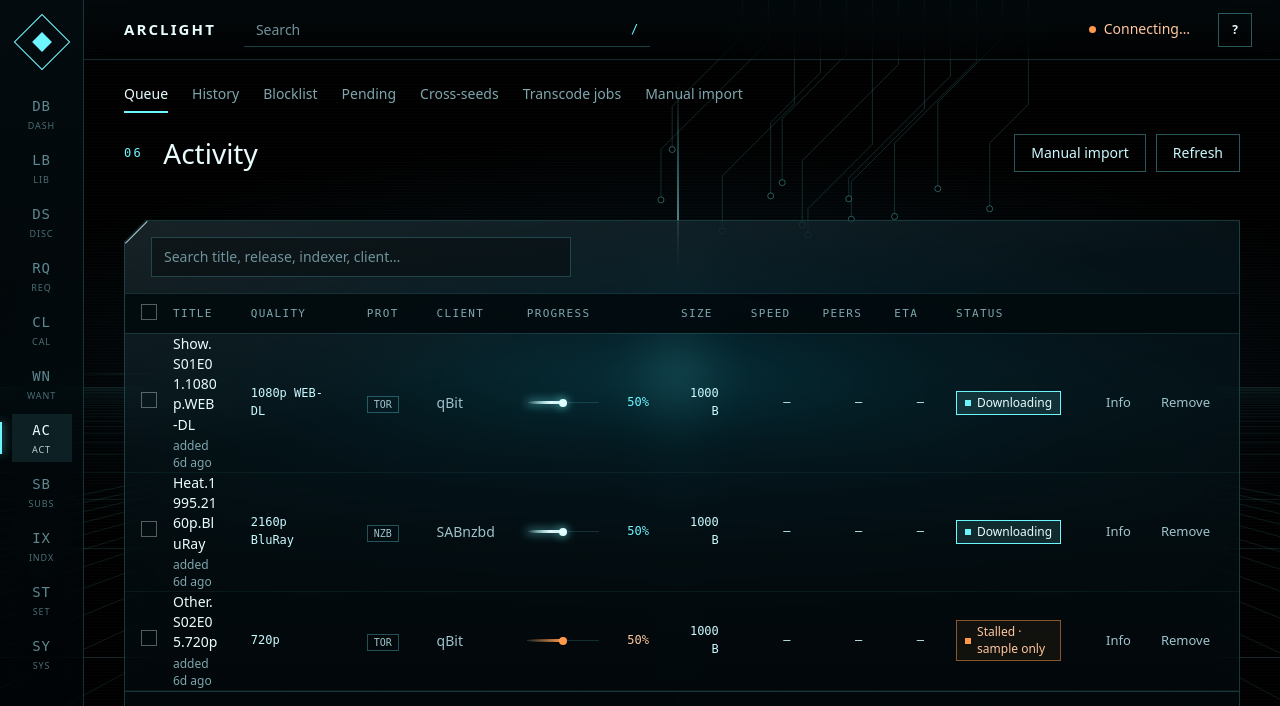
Test: queue search › filters by release name, client and status message, shows "N of M" and clears
Expected: the text "Heat.1995.2160p.BluRay" is shown, [173,473,219,554]
In the search field named "Search this list": (361, 257) [151,237,571,277], type "sabnzbd"
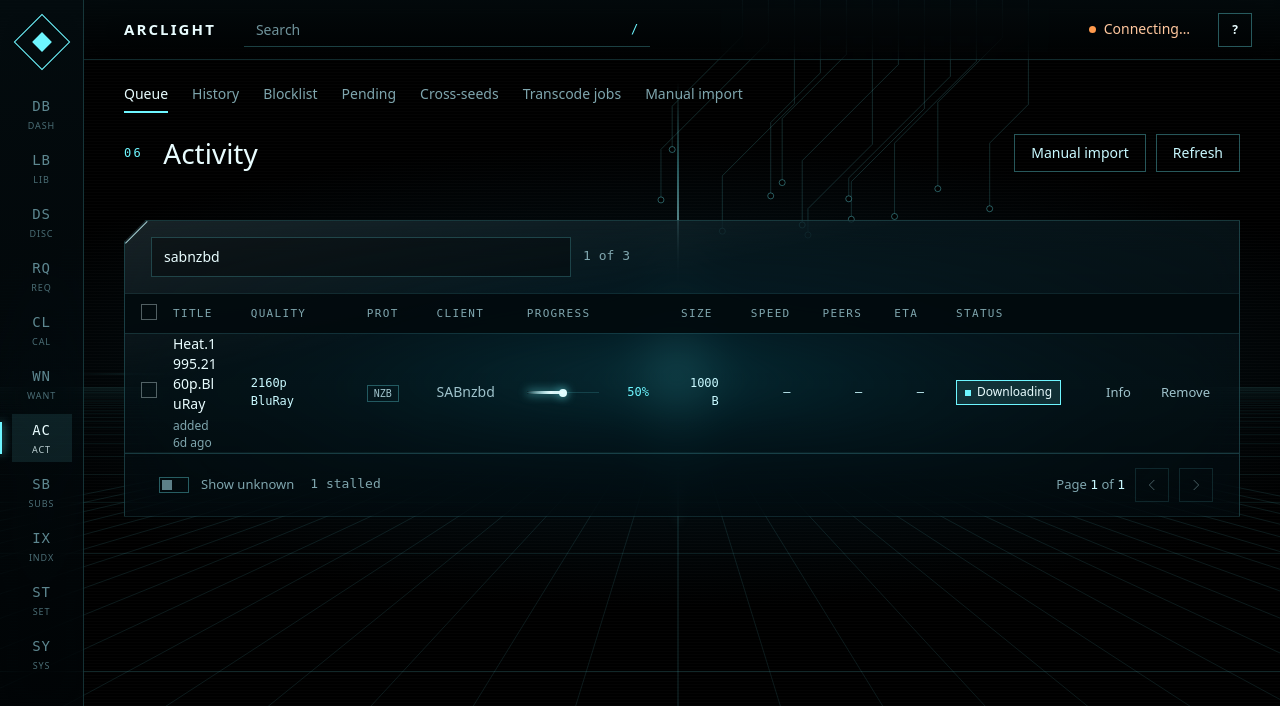
Expected: the text "Heat.1995.2160p.BluRay" is shown, [173,334,219,415]
Expected: the text "Show.S01E01.1080p.WEB-DL" is gone
Expected: the message with class "al-listsearch__count" reads "1 of 3", [583,248,630,263]
Replace the text in the search field named "Search this list" with "other sample": (361, 257) [151,237,571,277]
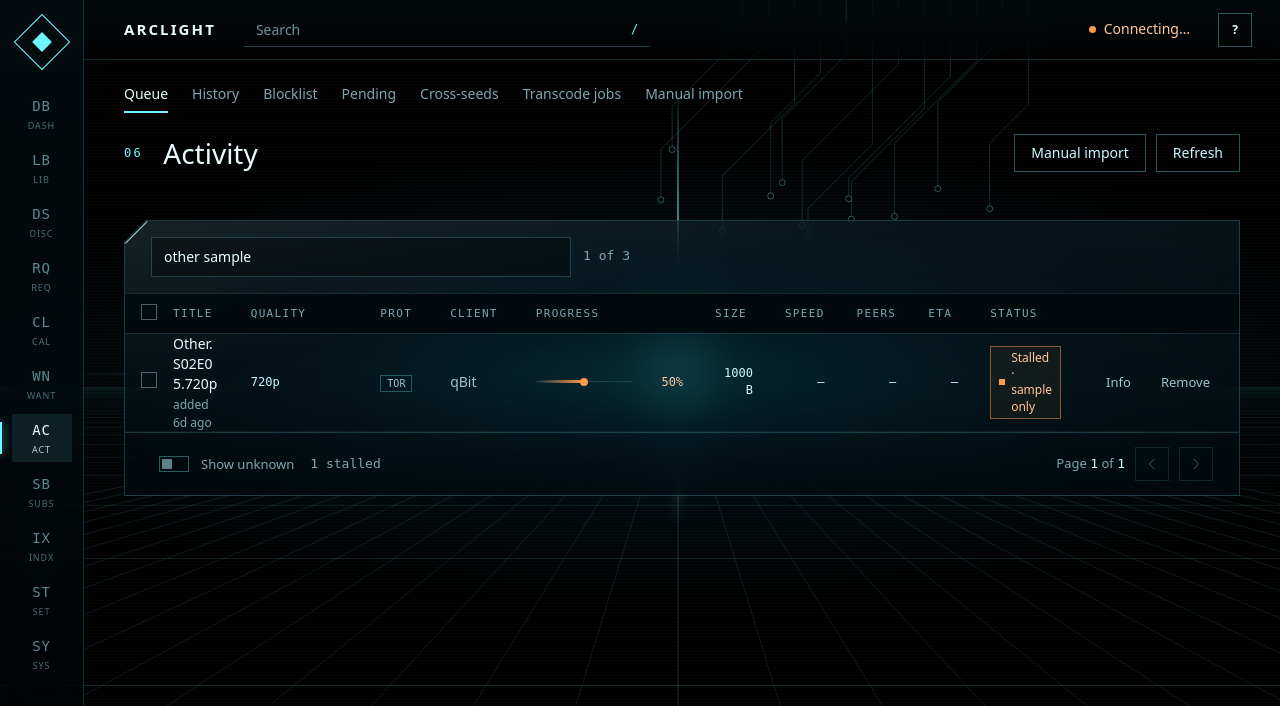
Expected: the text "Other.S02E05.720p" is shown, [173,334,219,394]
Expected: the text "Heat.1995.2160p.BluRay" is gone
// Select all picks the matching rows only.
Click the checkbox named "Select all rows": (149, 312) [141,304,157,320]
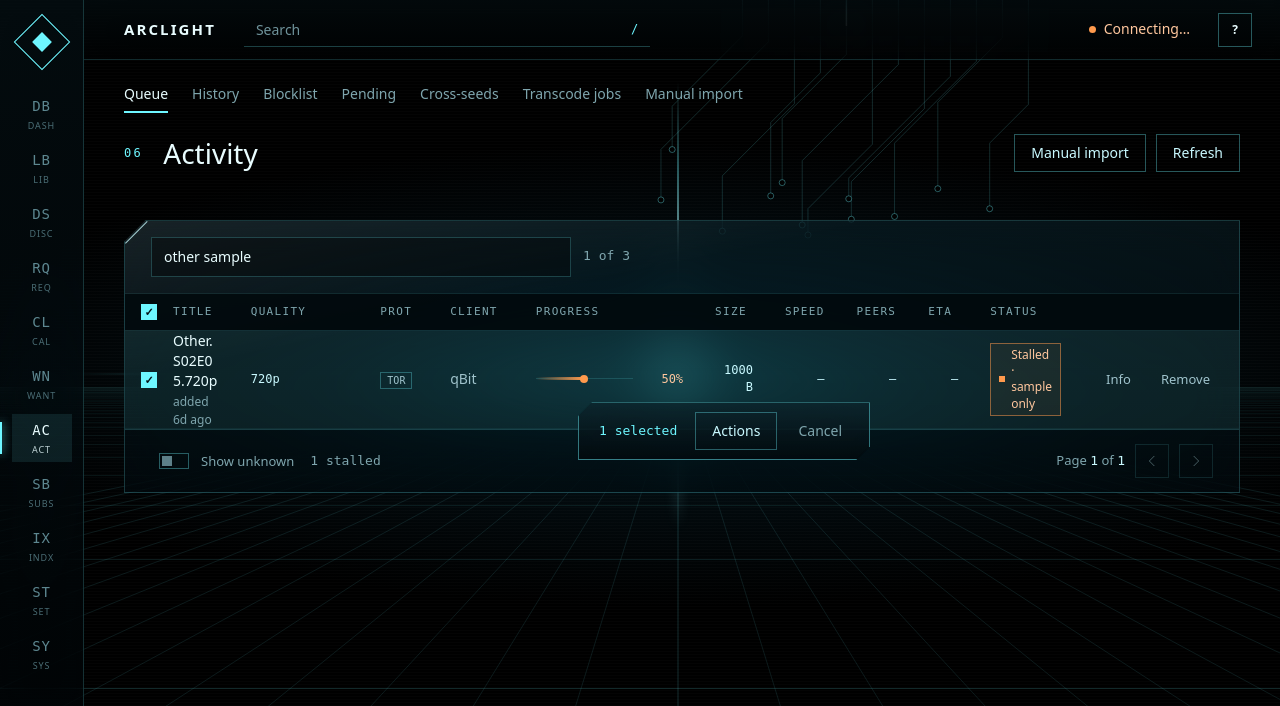
Expected: the text "1 selected" is shown, [599,422,677,441]
Replace the text in the search field named "Search this list" with "nothing-like-this": (361, 257) [151,237,571,277]
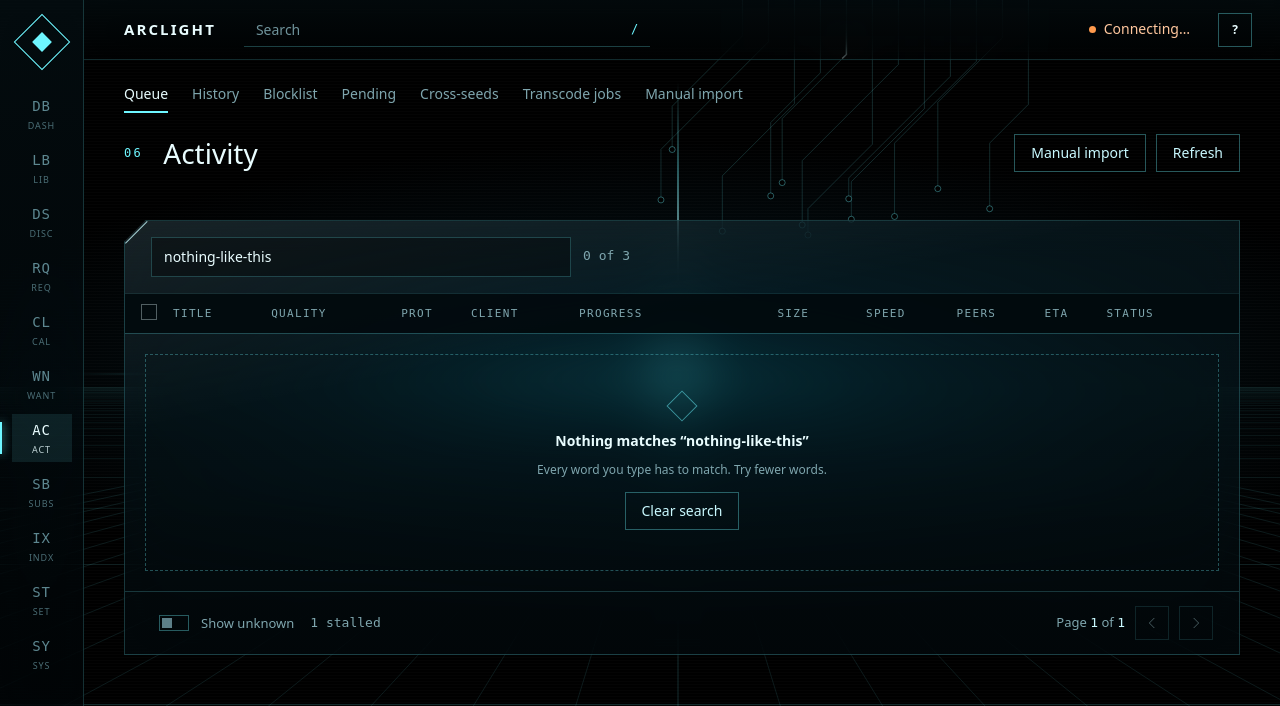
Click the button "Clear search": (682, 511) [624,492,740,530]
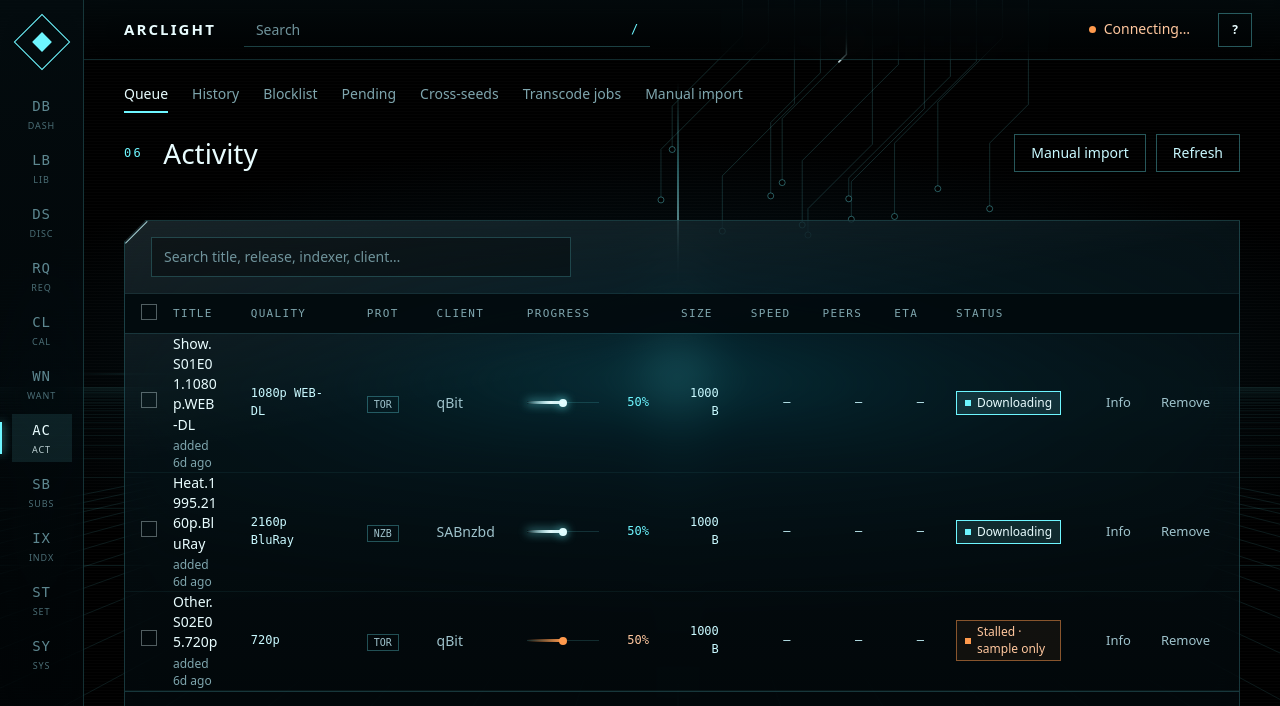
Expected: the text "Show.S01E01.1080p.WEB-DL" is shown, [173,334,219,435]
Expected: the text "Heat.1995.2160p.BluRay" is shown, [173,473,219,554]
Expected: the message with class "al-listsearch__count" is gone
